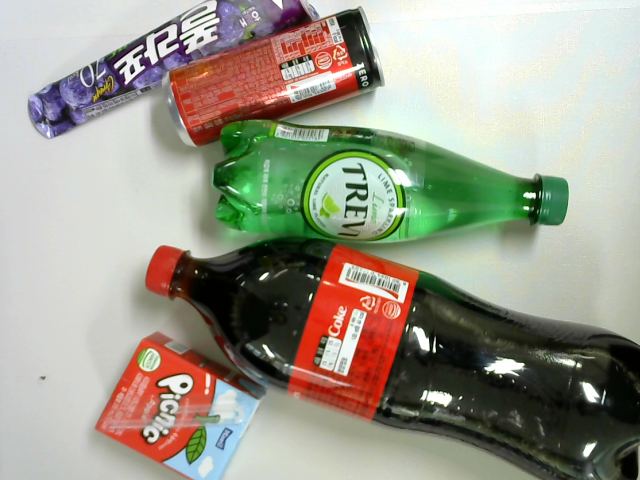Coca_Cola_1.5L: (144, 233, 640, 480)
Coca_Cola_Zero_Can_250ml: (165, 5, 384, 150)
Picnic_Apple: (98, 332, 269, 480)
Polapo_Grape: (28, 1, 321, 141)
Treviraim_500ml: (207, 120, 575, 249)
